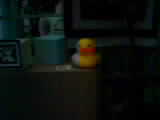duck: (67, 41, 100, 71)
